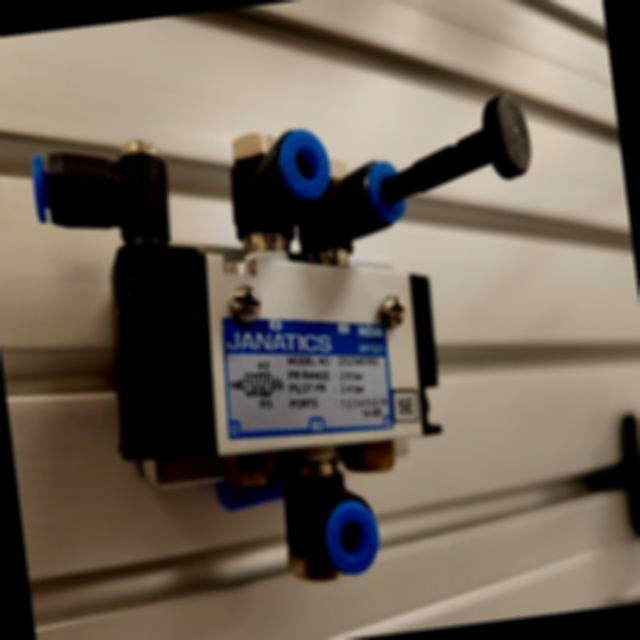5by2 DCV: (17, 71, 595, 622)
